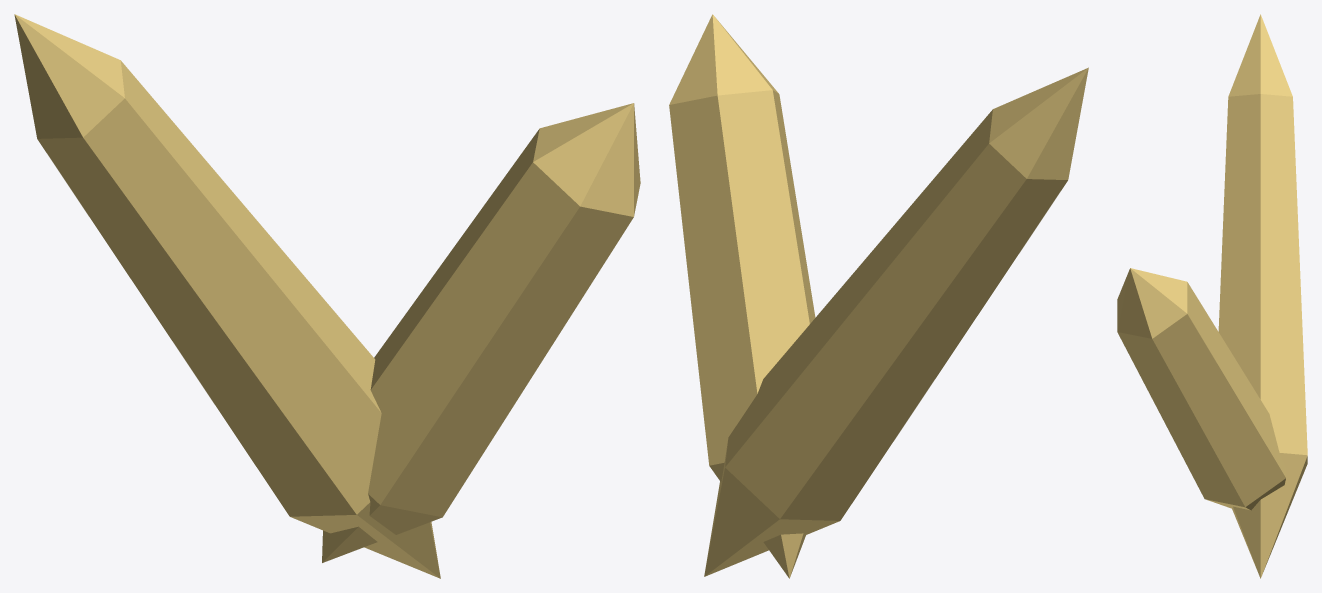
File: cristal_m1.fbx
3 renders of one model, left to right at view 1: azimuth 30°, elevation 25°; view 2: azimuth 150°, elevation 25°; view 3: azimuth 270°, elevation 25°, orthographic. The views are drawn at different scales.
Visible parts, largest first — view 1: pCylinder3; view 2: pCylinder3; view 3: pCylinder3.
Boxes of the visible parts, x1,y1,x2,y2 form: pCylinder3: (14, 14, 640, 578); pCylinder3: (669, 14, 1088, 578); pCylinder3: (1117, 14, 1307, 578).
Size of the model in its own units: 76.75 by 90.5 by 36.27.
